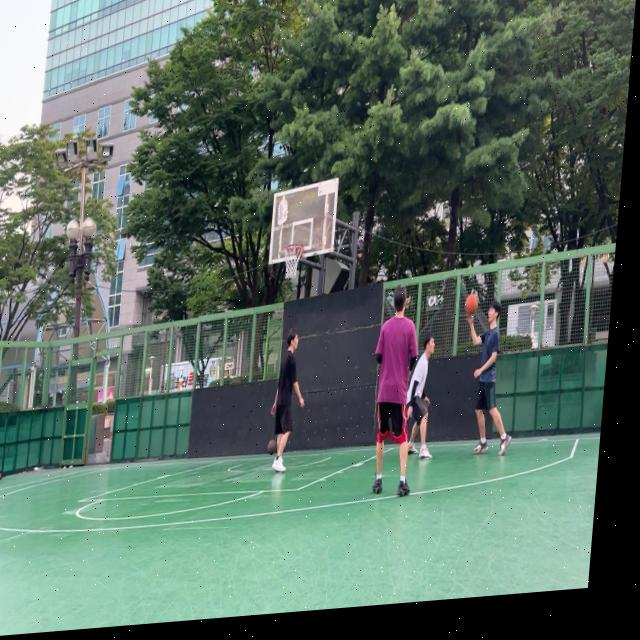basketball: (464, 293, 479, 317), (267, 438, 277, 455)
hoop: (280, 242, 305, 281)
